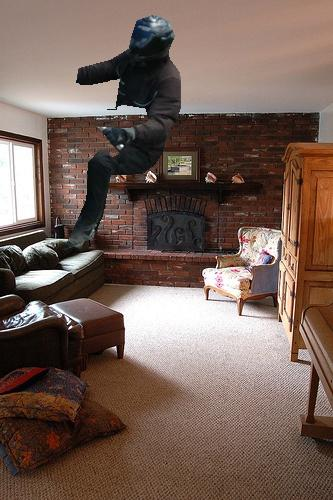tampered: (64, 15, 181, 250)
